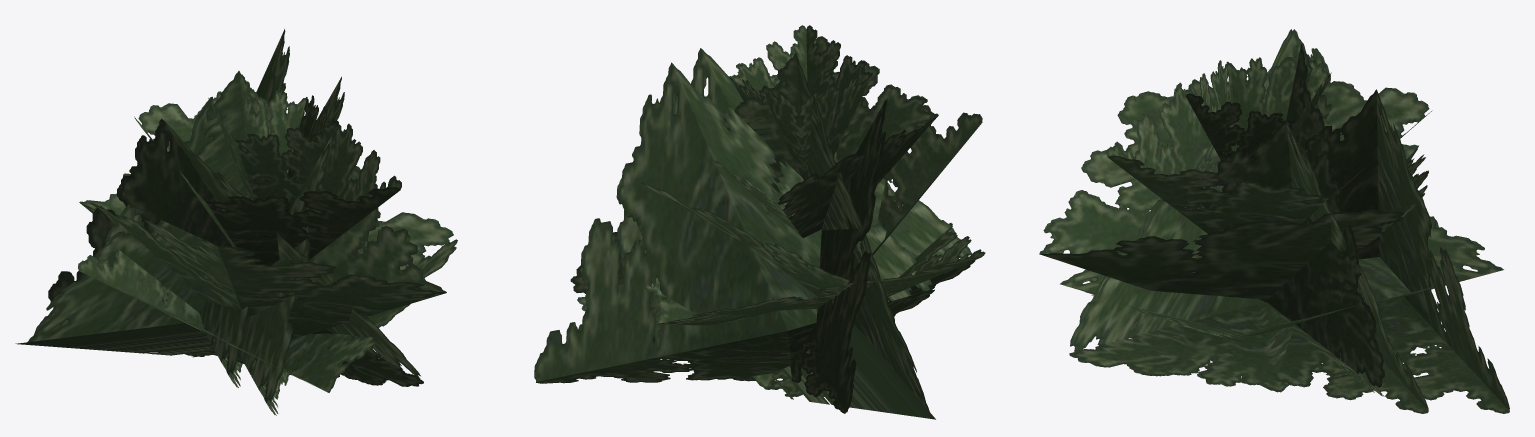
File: C1SNLARGEBUSH_H.obj
3 views of the same model, side by side, from view 1: azimuth 30°, elevation 25°; view 2: azimuth 150°, elevation 25°; view 3: azimuth 270°, elevation 25° (orthographic). The views are drawn at different scales.
Visible parts, largest first — view 1: Node 0; view 2: Node 0; view 3: Node 0.
Boxes of the visible parts, box(x1,y1,x2,y2) form: Node 0: box(15, 29, 457, 415); Node 0: box(534, 25, 985, 419); Node 0: box(1039, 29, 1509, 413).
Bounding box in the file's own units: 4.53 × 3.58 × 4.62.
1 material, 1 textured.
